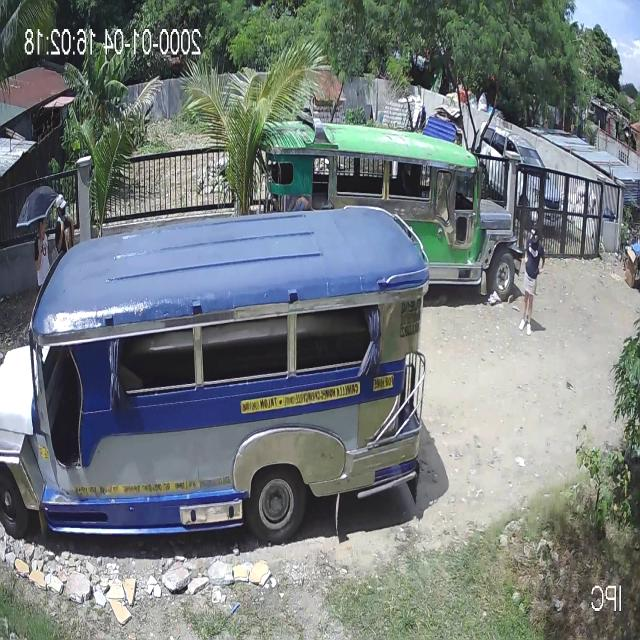standing: (517, 221, 544, 339), (53, 191, 81, 266), (32, 218, 54, 306)
walking: (316, 191, 334, 215)
